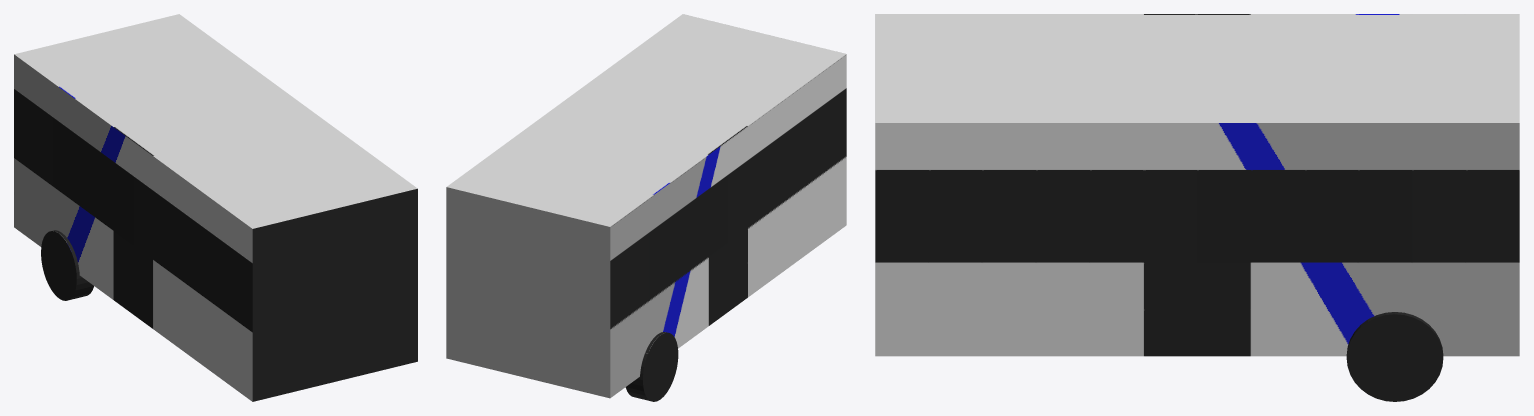
File: uvx-back.glb
The picture shows the model from 3 angles, left to right: view 1: azimuth 30°, elevation 25°; view 2: azimuth 150°, elevation 25°; view 3: azimuth 270°, elevation 25°; orthographic projection. The views are drawn at different scales.
Parts seen in each view (by area): view 1: Cube; view 2: Cube; view 3: Cube.
Part boxes in pixels (x1,y1,x2,y2): Cube: (14,14,417,401); Cube: (446,14,846,401); Cube: (875,14,1519,401).
Bounding box in the file's own units: 2.08 × 2.41 × 5.
Materials: 1 (1 with a texture image).
